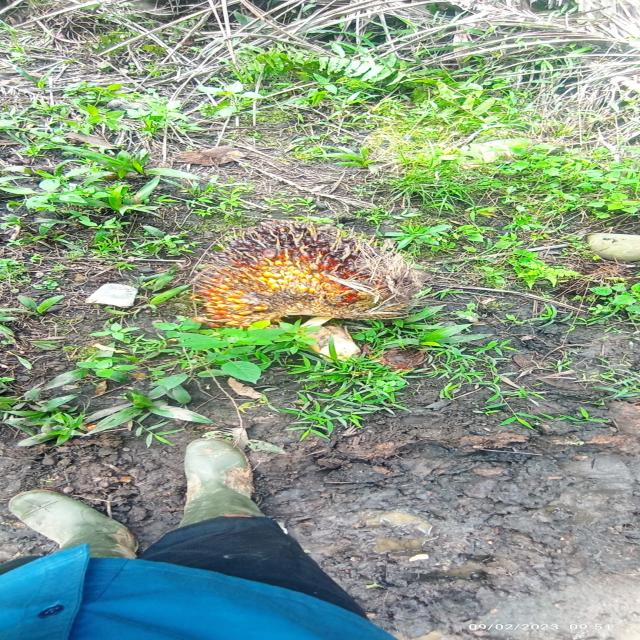fraksi 00: (176, 194, 438, 324)
